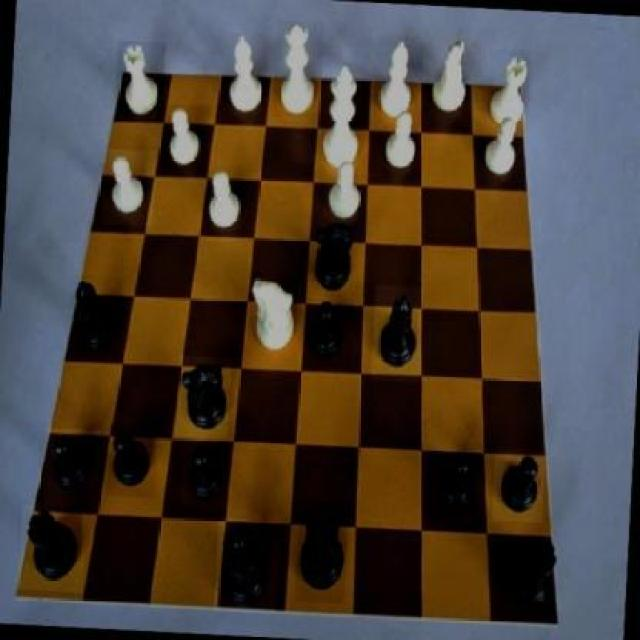bishop: (371, 285, 424, 382), (69, 276, 123, 356)
black-bishop: (295, 500, 351, 605)
black-king: (308, 218, 364, 302), (176, 356, 232, 440)
black-knight: (44, 428, 100, 510), (106, 425, 160, 500), (492, 448, 546, 523), (428, 451, 480, 522), (304, 298, 354, 368), (180, 443, 231, 509)
black-pawn: (214, 518, 280, 614)
black-queen: (18, 506, 88, 594), (499, 532, 566, 620)
black-rook: (374, 36, 424, 126), (225, 34, 269, 120)
white-bishop: (316, 61, 368, 178)
white-king: (248, 272, 300, 362), (426, 34, 474, 126)
white-knight: (101, 149, 157, 227), (482, 114, 526, 191), (160, 105, 210, 172), (206, 164, 250, 238), (382, 106, 422, 180), (323, 161, 365, 224)
white-pawn: (274, 20, 326, 120)
white-queen: (115, 40, 168, 114), (488, 49, 532, 132)
